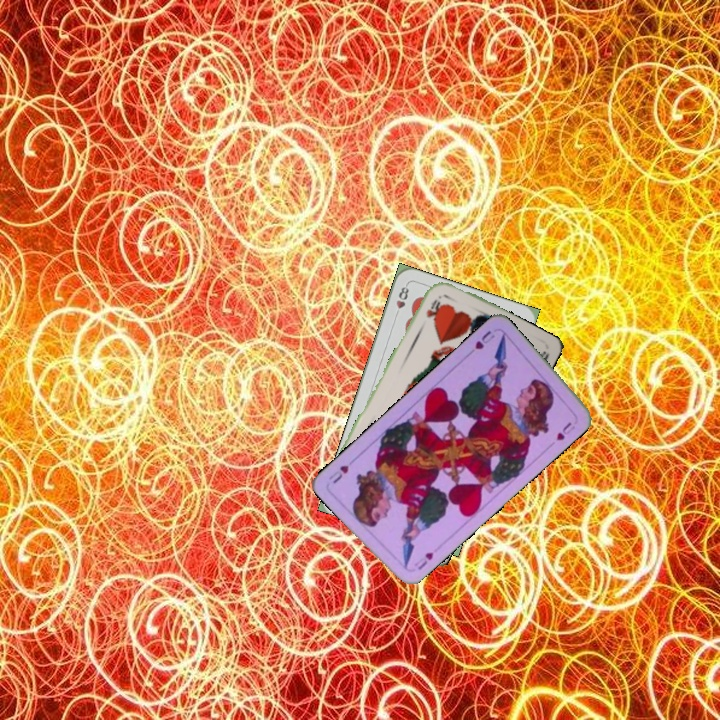H8: (391, 281, 411, 320)
HO: (422, 295, 444, 323)
HU: (465, 326, 498, 358), (414, 548, 436, 572)
